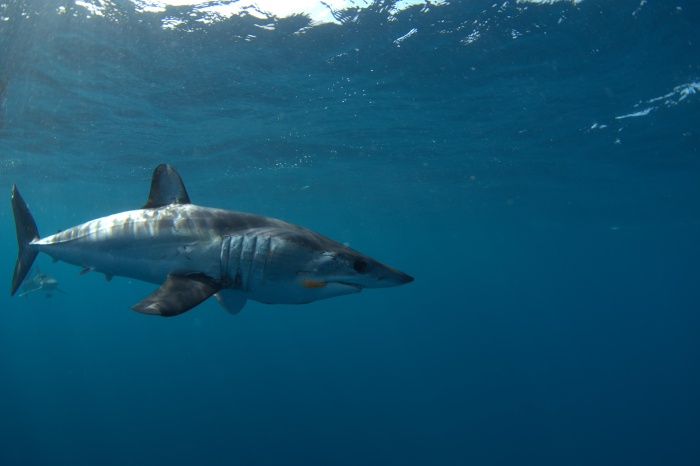Mako: (8, 156, 423, 330)
